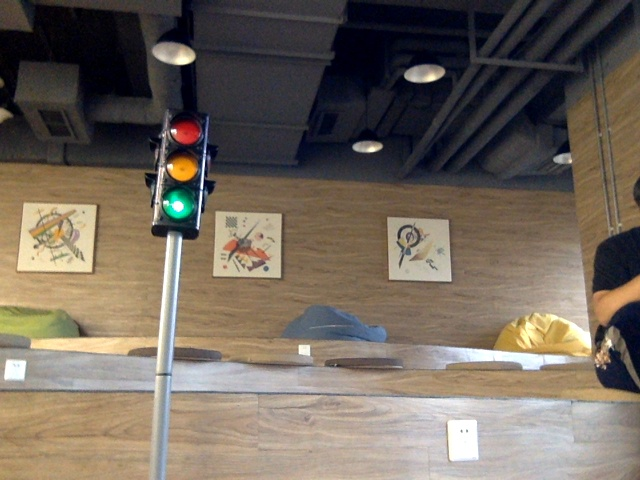green: (162, 116, 195, 225)
